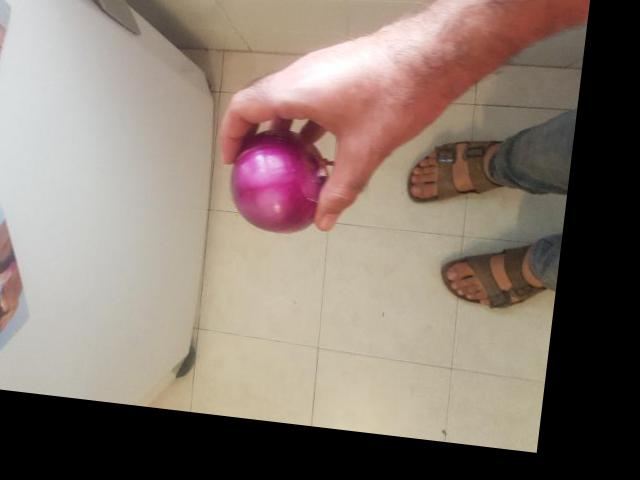onion: (227, 116, 337, 241)
